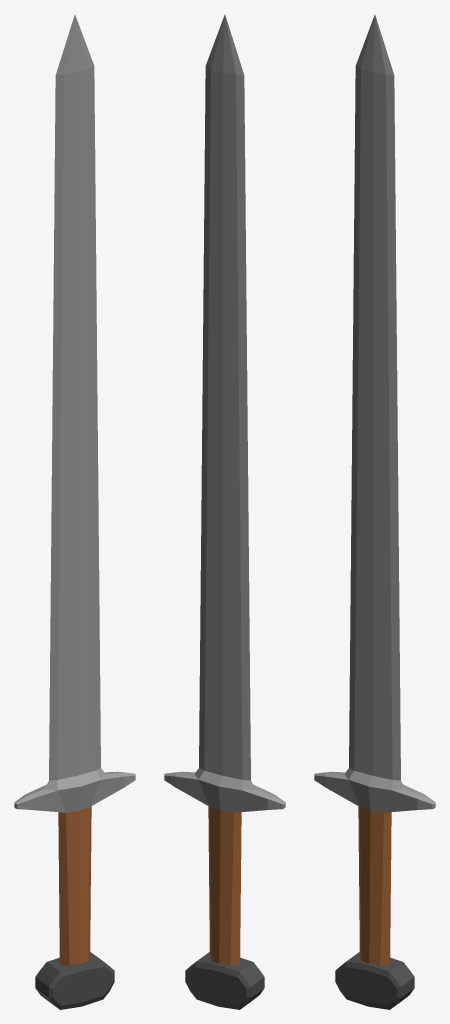
File: Sword.fbx
3 renders of one model, left to right at view 1: azimuth 30°, elevation 25°; view 2: azimuth 150°, elevation 25°; view 3: azimuth 330°, elevation 25°, orthographic.
Parts seen in each view (by area): view 1: Sword 3; view 2: Sword 3; view 3: Sword 3.
Boxes of the visible parts, x1,y1,x2,y2 form: Sword 3: (14,14,135,1009); Sword 3: (164,14,285,1009); Sword 3: (314,14,435,1009).
Bounding box in the file's own units: 96.98 × 755 × 22.61.
